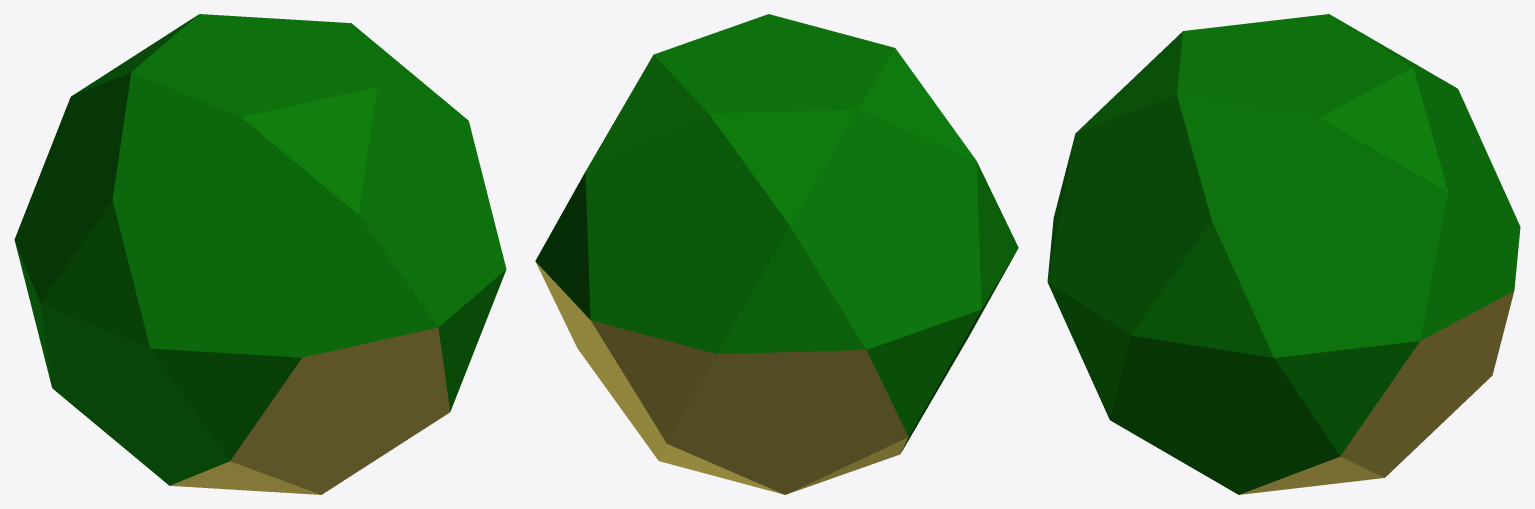
Rendered from Body.fbx.
3 views of the same model, side by side, from view 1: azimuth 30°, elevation 25°; view 2: azimuth 150°, elevation 25°; view 3: azimuth 270°, elevation 25° (orthographic). The views are drawn at different scales.
Visible parts, largest first — view 1: Icosphere; view 2: Icosphere; view 3: Icosphere.
Part boxes in pixels (x1,y1,x2,y2): Icosphere: (14, 14, 506, 494); Icosphere: (535, 14, 1018, 494); Icosphere: (1047, 14, 1520, 494).
Bounding box in the file's own units: 200 × 170 × 193.
